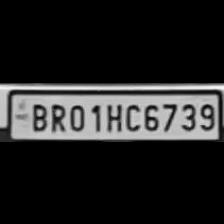0: (66, 100, 86, 130)
1: (86, 100, 104, 132)
3: (178, 99, 196, 130)
6: (140, 99, 160, 130)
7: (158, 99, 178, 130)
9: (196, 99, 216, 129)
B: (28, 100, 48, 130)
C: (122, 99, 142, 130)
H: (102, 99, 124, 130)
R: (47, 100, 66, 132)
